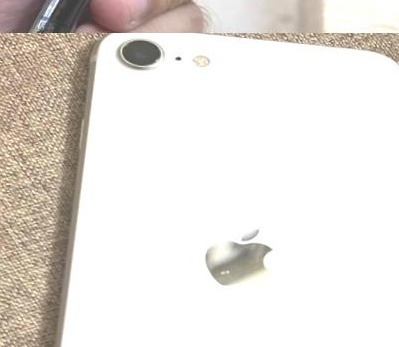scratch: (121, 37, 163, 69), (23, 10, 68, 33)
